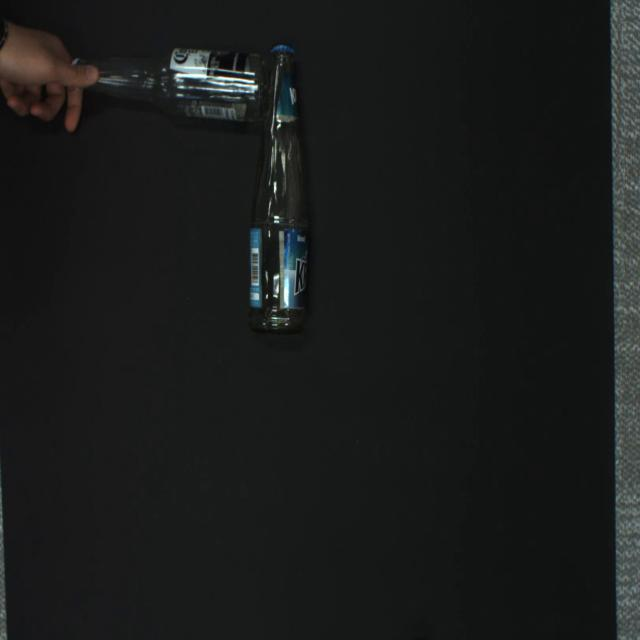beer-bottle: (248, 45, 309, 335), (70, 48, 269, 122)
